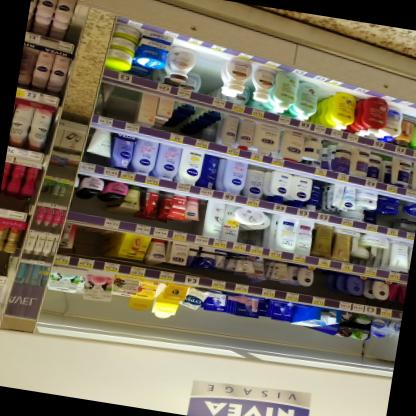empty_space: (73, 226, 109, 258), (104, 88, 137, 121), (190, 48, 219, 85), (311, 268, 333, 296)
